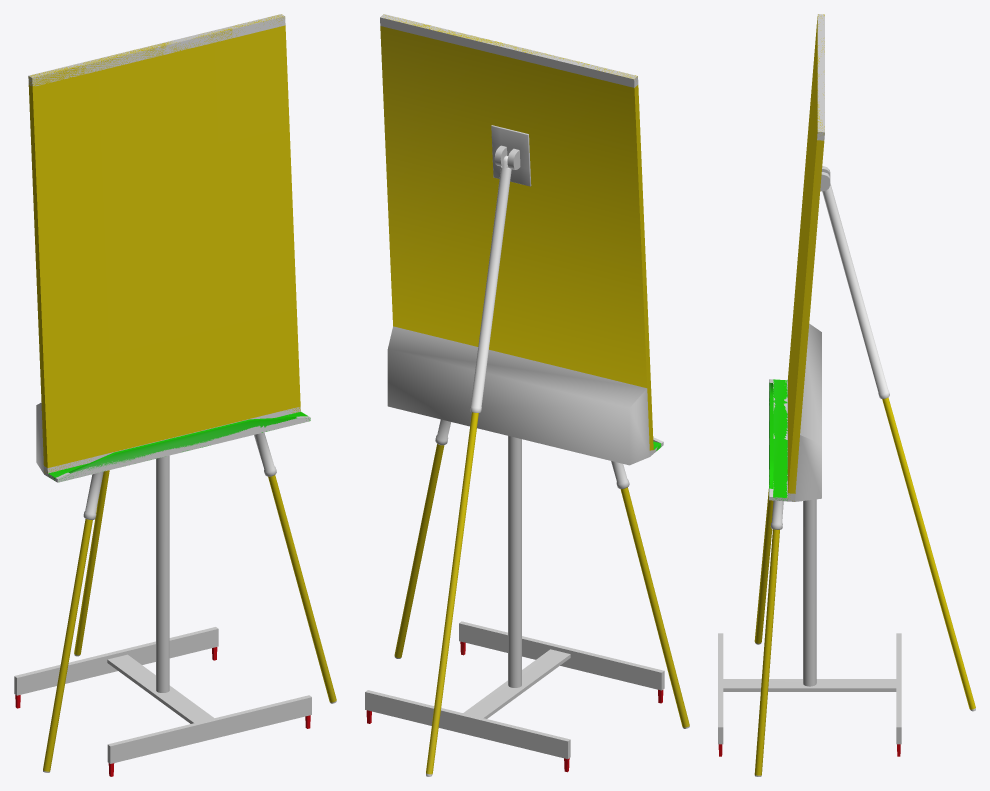
Rendered from Paperboard_T.fbx.
3 renders of one model, left to right at view 1: azimuth 30°, elevation 25°; view 2: azimuth 150°, elevation 25°; view 3: azimuth 270°, elevation 25°, orthographic. The views are drawn at different scales.
Visible parts, largest first — view 1: Paperboard, Corpse, Leg; view 2: Paperboard, Corpse, Leg; view 3: Paperboard, Corpse, Leg.
Part boxes in pixels (x1,y1,x2,y2): Paperboard: (14,14,311,776); Corpse: (28,14,336,772); Leg: (74,470,109,656); Paperboard: (365,14,664,772); Corpse: (380,14,689,728); Leg: (426,155,511,776); Paperboard: (718,14,901,756); Corpse: (754,14,830,776); Leg: (822,183,975,711).
Size of the model in its own units: 86.78 by 189 by 69.37.
